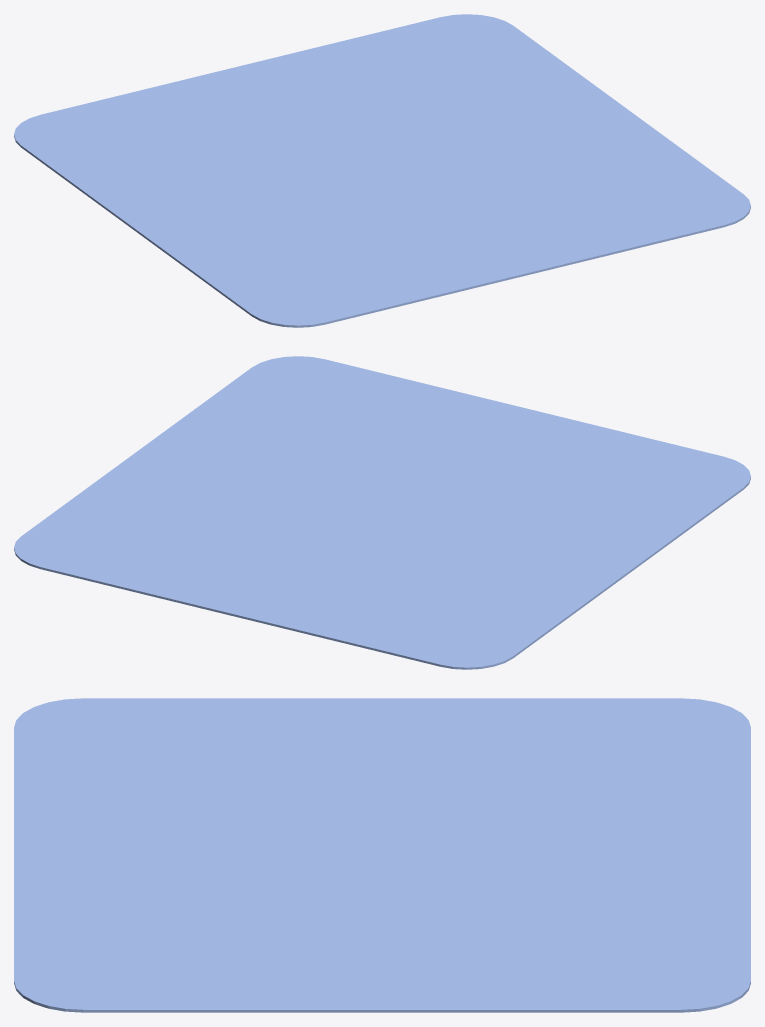
3 views of the same model, one above another, from view 1: azimuth 30°, elevation 25°; view 2: azimuth 150°, elevation 25°; view 3: azimuth 270°, elevation 25° (orthographic). The views are drawn at different scales.
Parts seen in each view (by area): view 1: COM-02 Floor Surface; view 2: COM-02 Floor Surface; view 3: COM-02 Floor Surface.
Part boxes in pixels (x1,y1,x2,y2): COM-02 Floor Surface: (14, 14, 750, 327); COM-02 Floor Surface: (14, 356, 750, 669); COM-02 Floor Surface: (14, 698, 750, 1012).
Bounding box in the file's own units: 1.92 × 0.008 × 1.92.
Materials: 1 (1 with a texture image).
